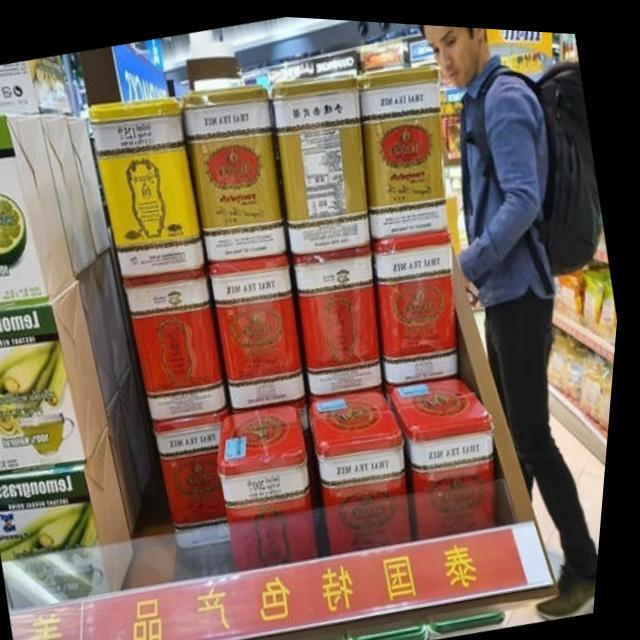box: (0, 425, 144, 608), (0, 278, 116, 477), (90, 95, 209, 277), (184, 81, 292, 260), (273, 68, 374, 251), (394, 371, 505, 535), (315, 382, 421, 550), (224, 401, 329, 566), (126, 264, 234, 418), (360, 58, 452, 234), (0, 114, 79, 308), (213, 251, 312, 405), (296, 239, 389, 390), (378, 227, 464, 380), (161, 403, 239, 546), (41, 113, 101, 274), (70, 114, 115, 254), (83, 260, 124, 406), (98, 248, 137, 386), (114, 387, 150, 529), (126, 365, 160, 496), (0, 54, 74, 113)
